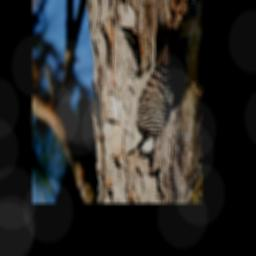Woodpecker: (126, 12, 175, 159)
